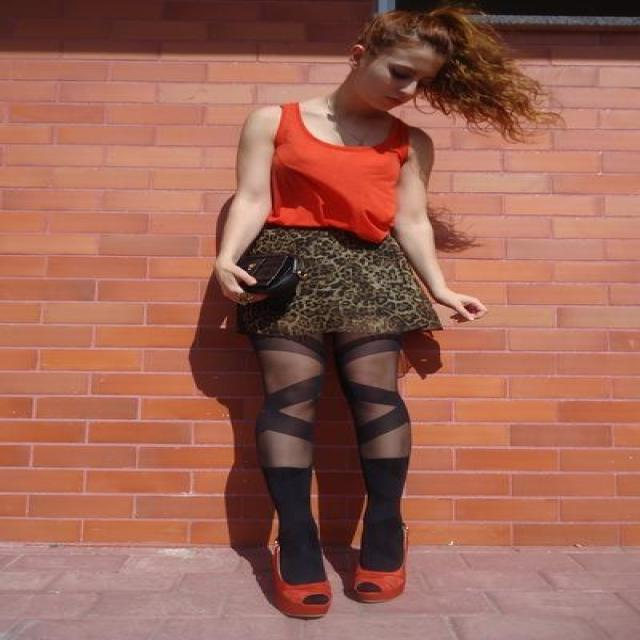bag: (237, 243, 312, 312)
shirt: (266, 102, 430, 245)
shoe: (256, 564, 405, 620)
skirt: (235, 221, 445, 352)
